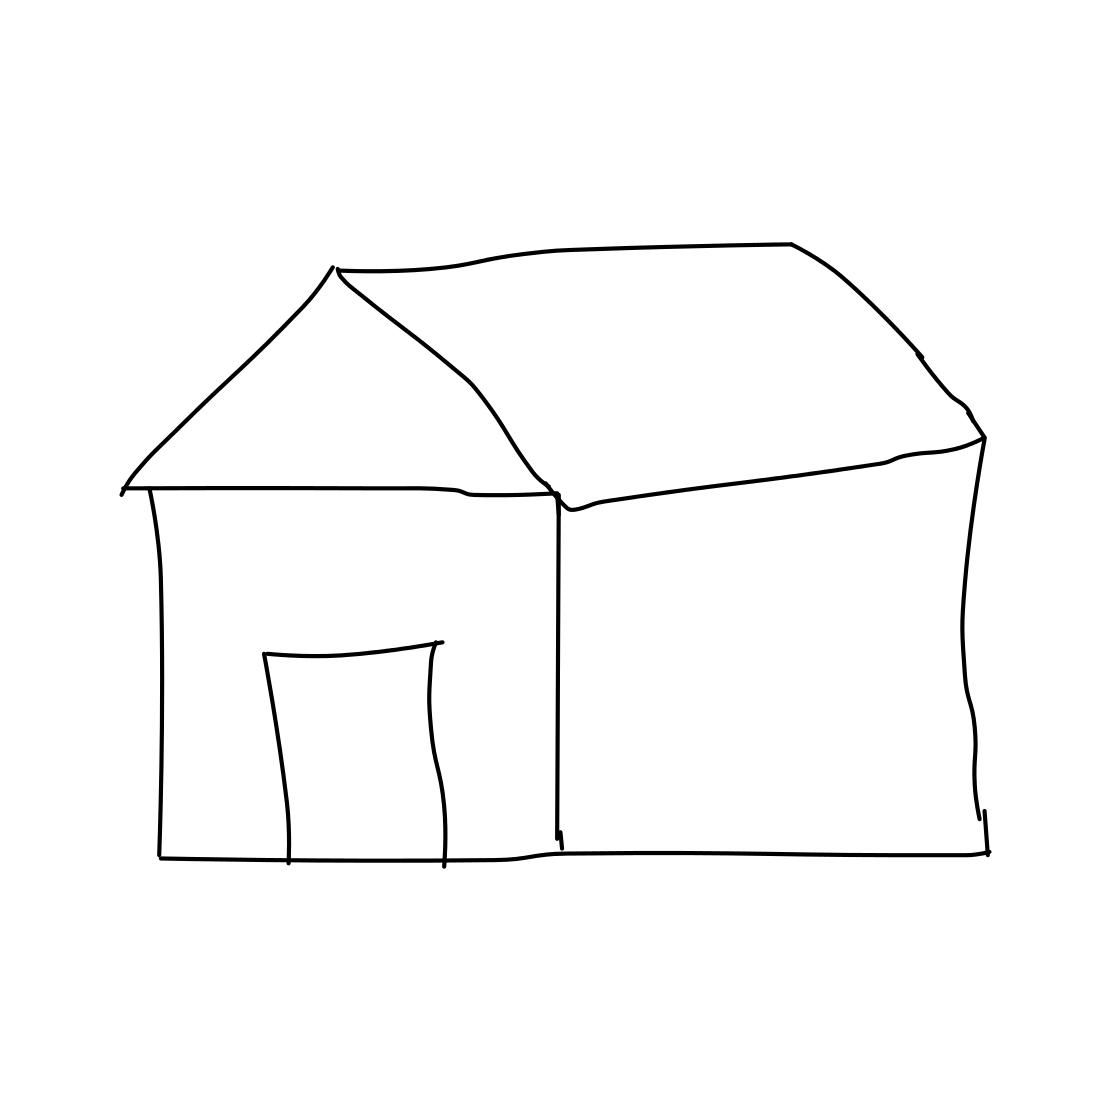House: (94, 221, 1015, 881)
